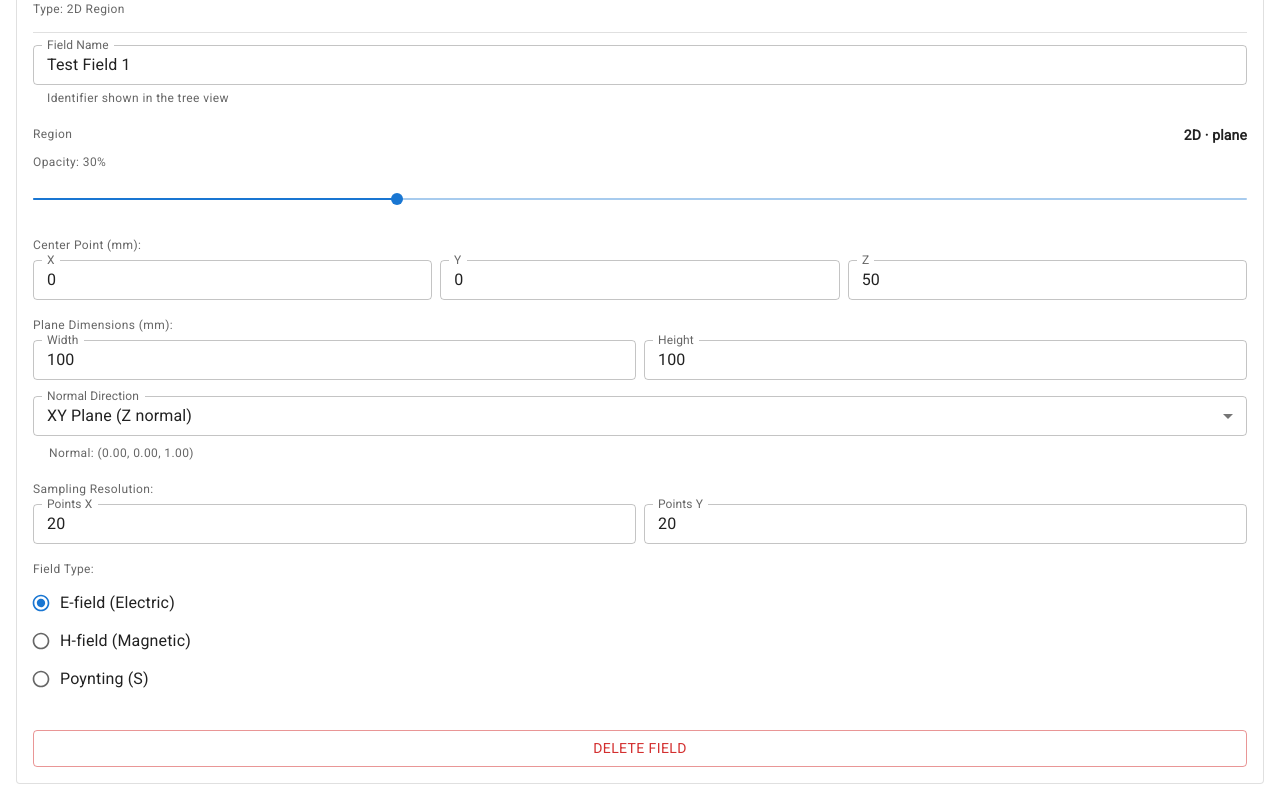
it: SolverPropertiesPanel › shows delete confirmation dialog
This screenshot has width=1280, height=800.
(page scrolled)
Click the button "Delete Field" at (640, 748), box [33,730,1247,766]
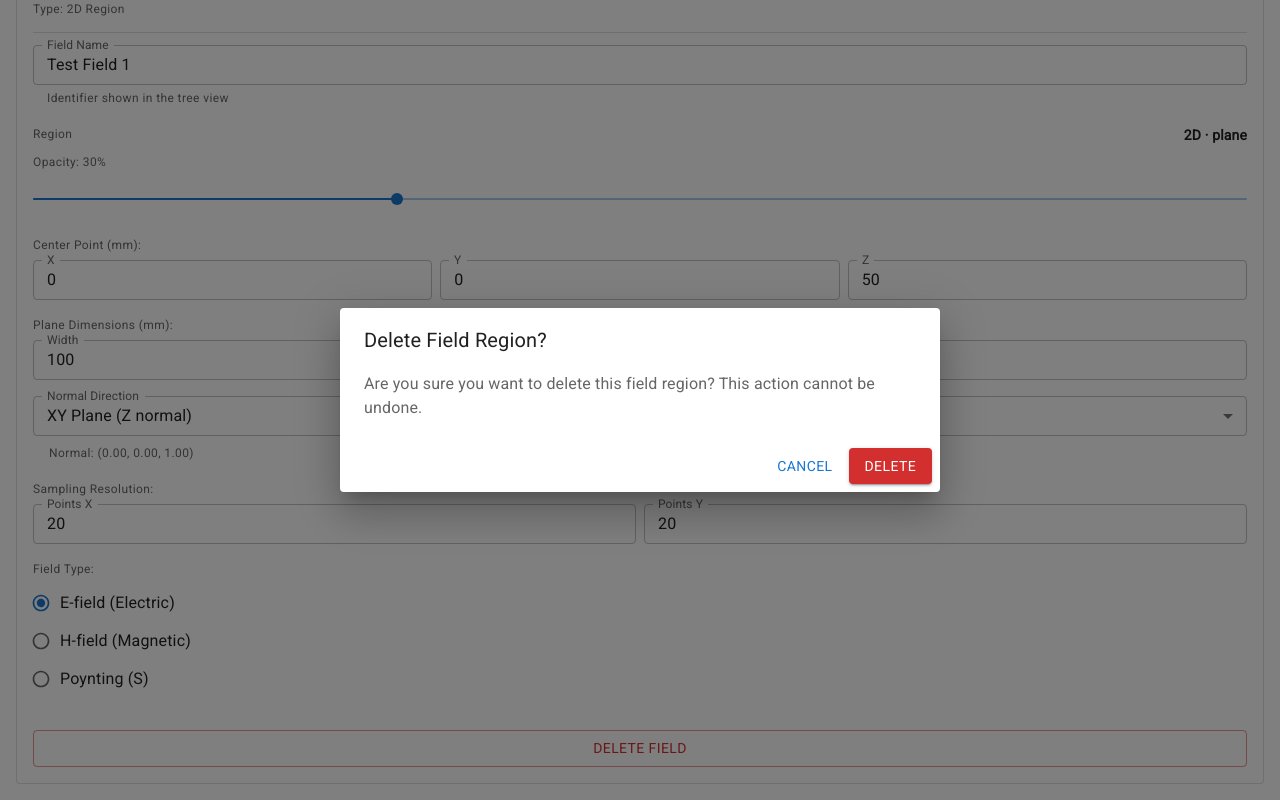
Result: the heading "Delete Field Region?" is shown at [364,328,547,352]
Result: the text "Are you sure" is shown at [364,374,875,417]
